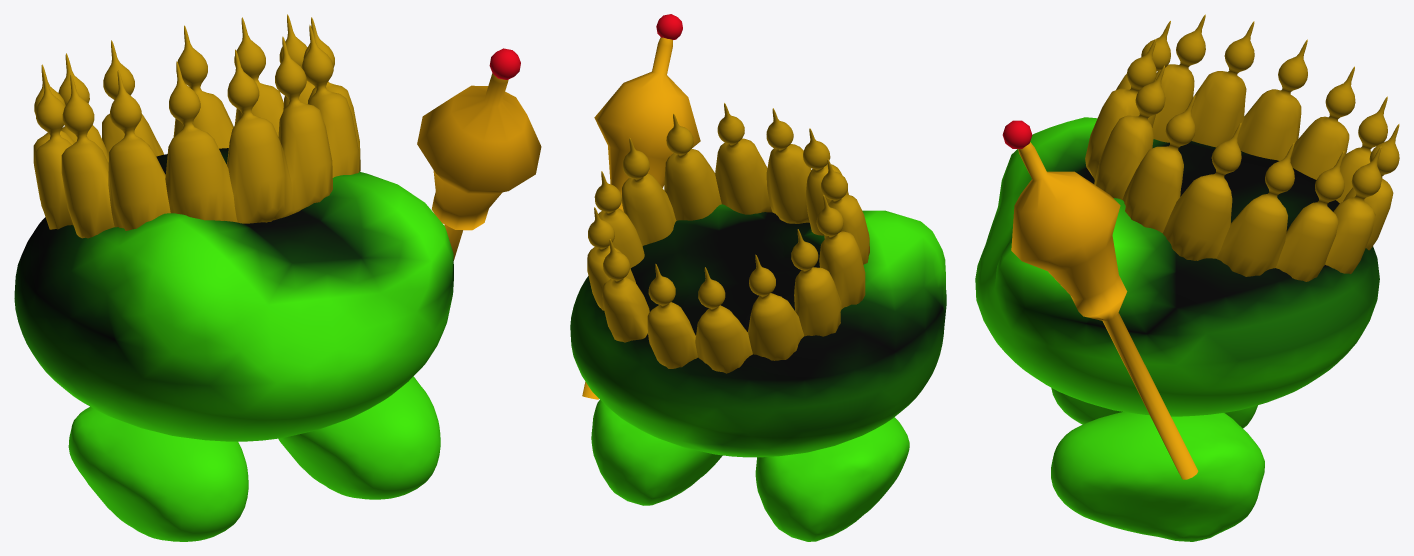
The model's file is GoldenBeanBody.fbx.
3 views of the same model, side by side, from view 1: azimuth 30°, elevation 25°; view 2: azimuth 150°, elevation 25°; view 3: azimuth 270°, elevation 25° (orthographic). The views are drawn at different scales.
Visible parts, largest first — view 1: Body, krone, Zepter; view 2: Body, krone, Zepter; view 3: Body, krone, Zepter.
Boxes of the visible parts, x1,y1,x2,y2 form: Body: [14, 148, 453, 541]; krone: [33, 14, 360, 238]; Zepter: [417, 48, 541, 260]; Body: [570, 204, 946, 541]; krone: [587, 103, 869, 373]; Zepter: [582, 14, 700, 399]; Body: [975, 117, 1379, 541]; krone: [1085, 14, 1399, 281]; Zepter: [1002, 120, 1198, 479].
Bounding box in the file's own units: 223 × 235 × 205.
